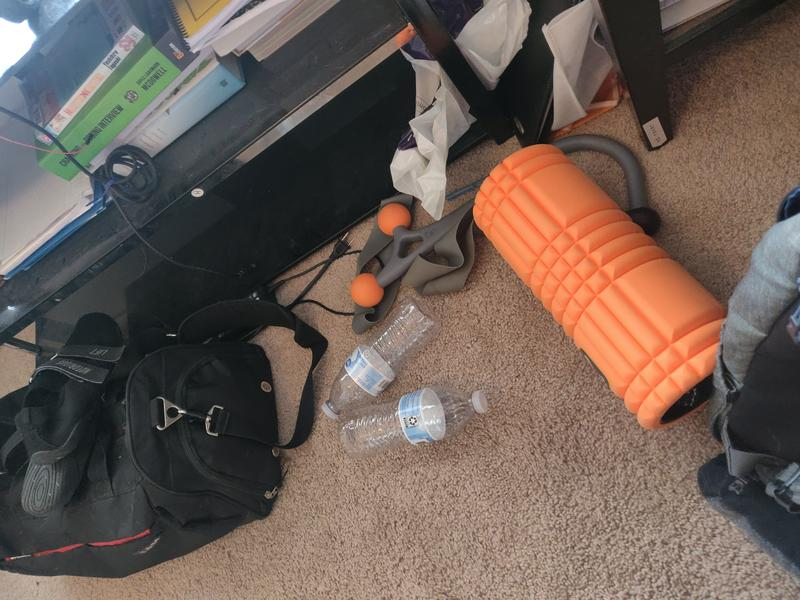bottle: (322, 295, 441, 418), (338, 387, 488, 458)
